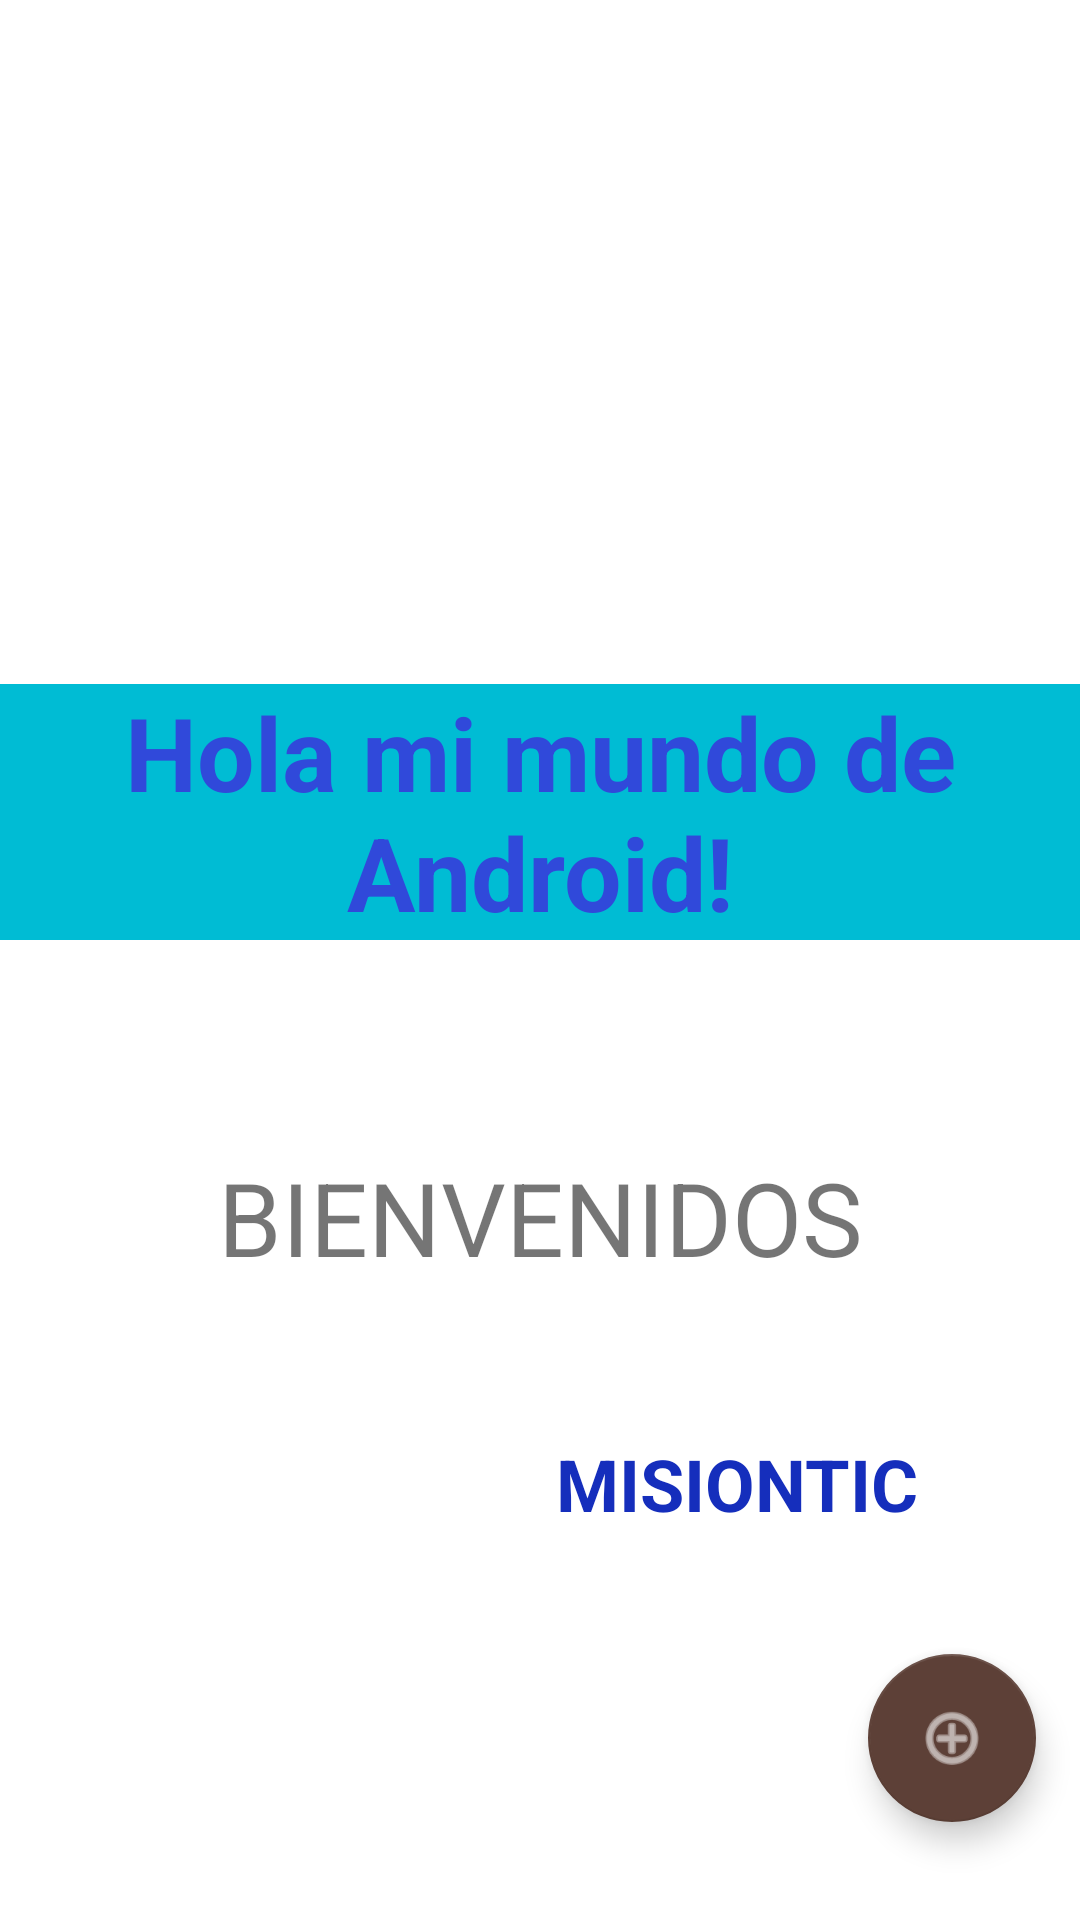

Where icons sit on this 1080px x 1920px app screen, as Rect(x1, y1, x2, y2):
add: Rect(868, 1654, 1036, 1822)
